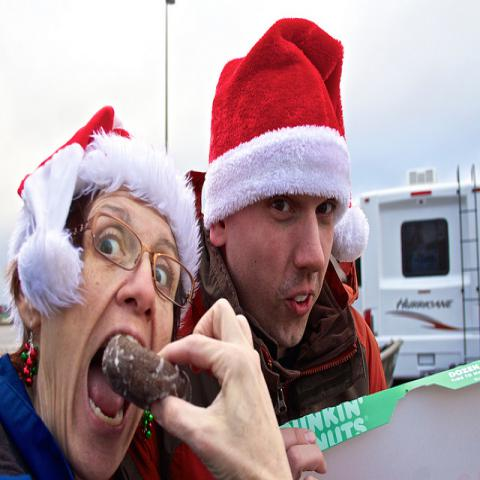truck: (362, 184, 480, 379)
